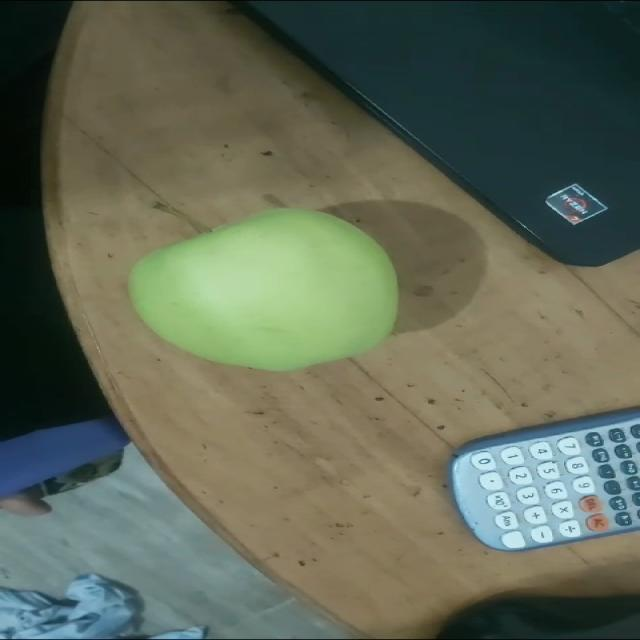50-_ripeness: (125, 208, 398, 370)
